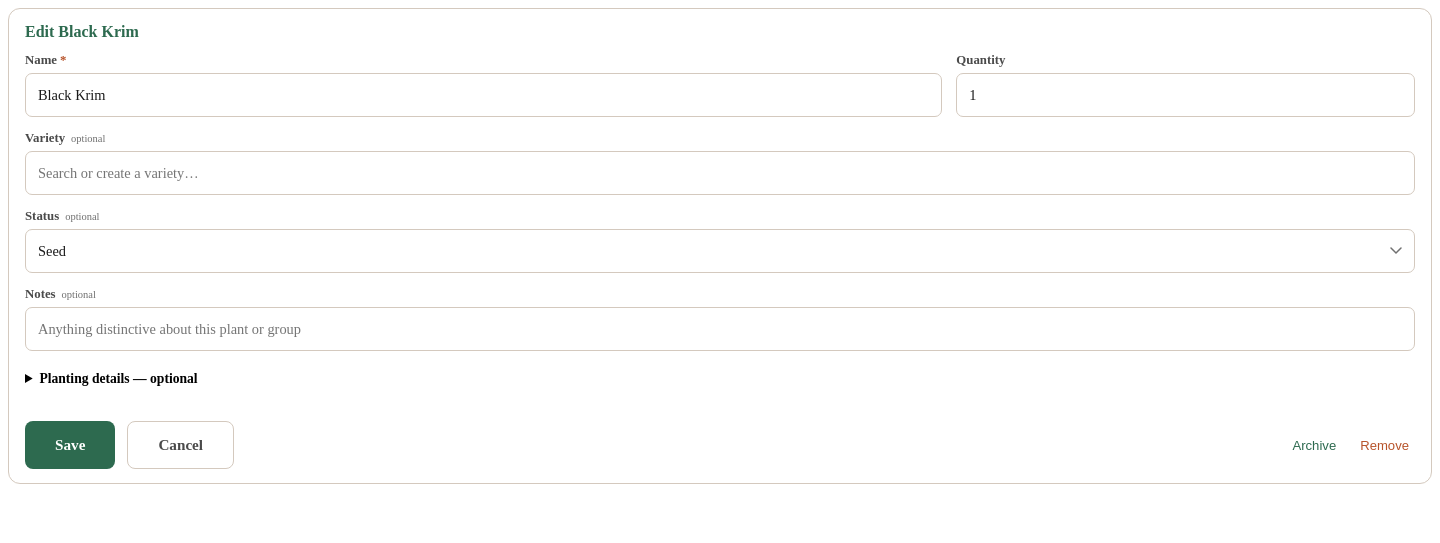
Test: PlantingEditor Archive — a failure does not render as a success › names the archive and the state the planting is left in, and announces it
Click the button "Archive": (1314, 445) [1286, 421, 1342, 469]
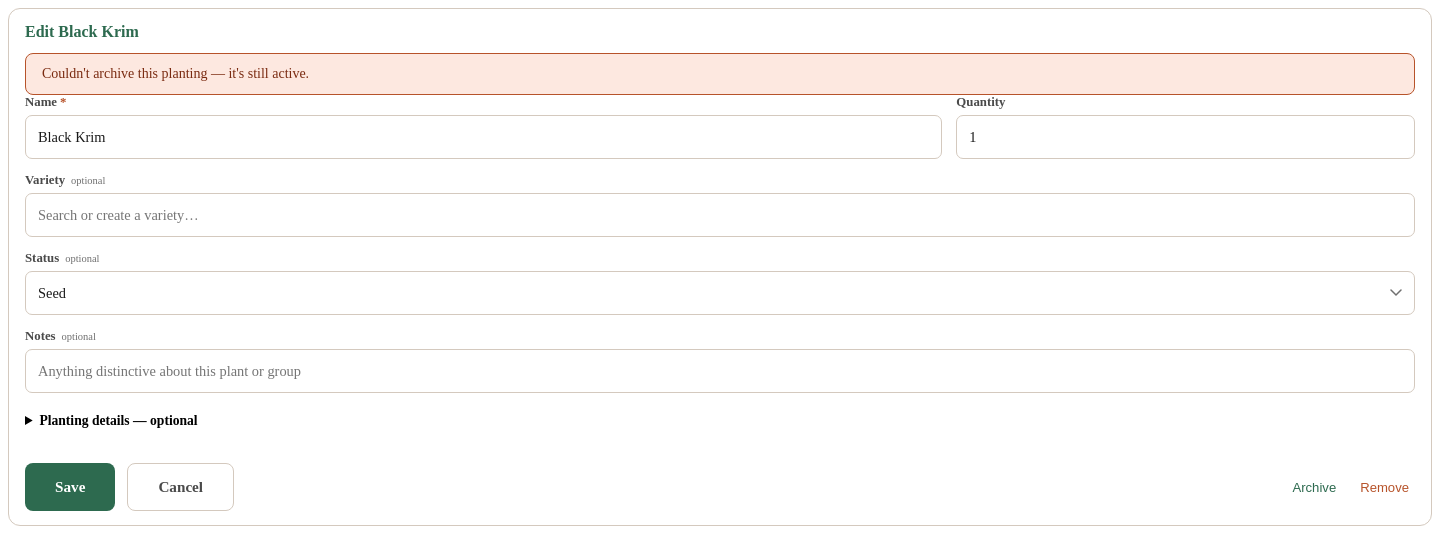
Expected: the message does not show "remove"
Now the message shows "Couldn't archive this planting", box [42, 66, 309, 81]
Now the message shows "still active", box [42, 66, 309, 81]
